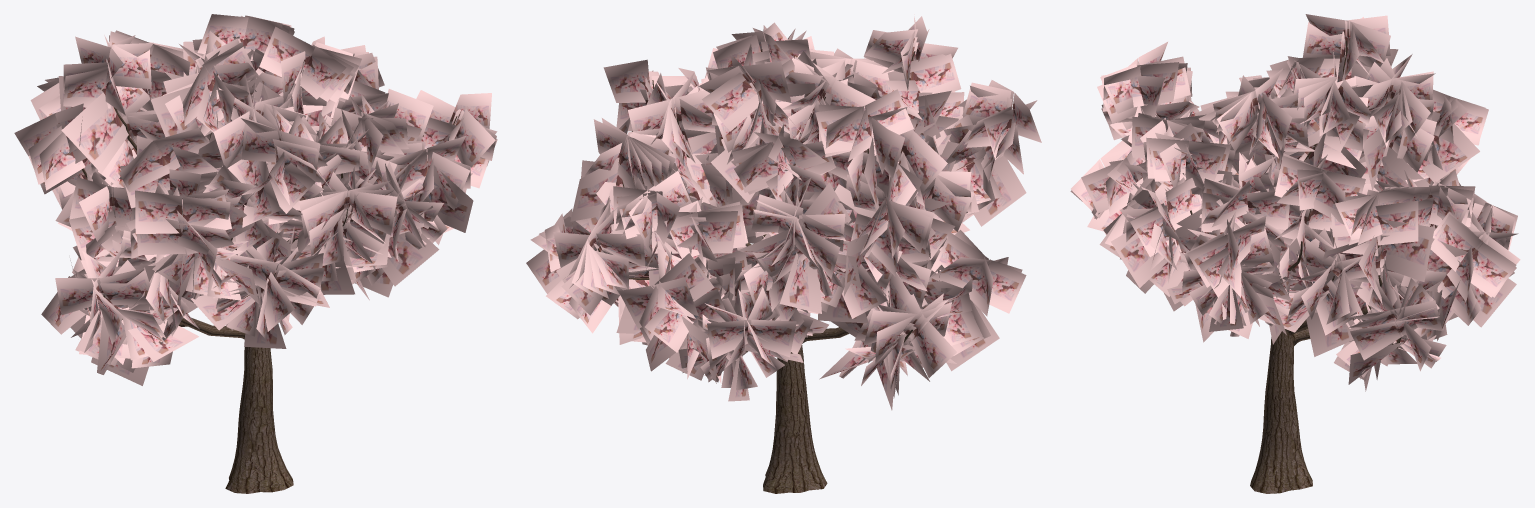
Rendered from cerezo_opt.glb.
3 renders of one model, left to right at view 1: azimuth 30°, elevation 25°; view 2: azimuth 150°, elevation 25°; view 3: azimuth 270°, elevation 25°, orthographic. The views are drawn at different scales.
Parts seen in each view (by area): view 1: Sakura_Sakura_Mat_0_5, Sakura_Bark001_2K_JPG_Mat_0_4; view 2: Sakura_Sakura_Mat_0_5, Sakura_Bark001_2K_JPG_Mat_0_4; view 3: Sakura_Sakura_Mat_0_5, Sakura_Bark001_2K_JPG_Mat_0_4.
Boxes of the visible parts, <box> form: Sakura_Sakura_Mat_0_5: <box>14,14,497,385</box>; Sakura_Bark001_2K_JPG_Mat_0_4: <box>81,87,457,493</box>; Sakura_Sakura_Mat_0_5: <box>526,14,1041,410</box>; Sakura_Bark001_2K_JPG_Mat_0_4: <box>598,51,927,493</box>; Sakura_Sakura_Mat_0_5: <box>1070,14,1520,391</box>; Sakura_Bark001_2K_JPG_Mat_0_4: <box>1190,41,1401,493</box>.
Bounding box in the file's own units: 0.4036 × 0.4172 × 0.4016.
2 materials, 2 textured.
